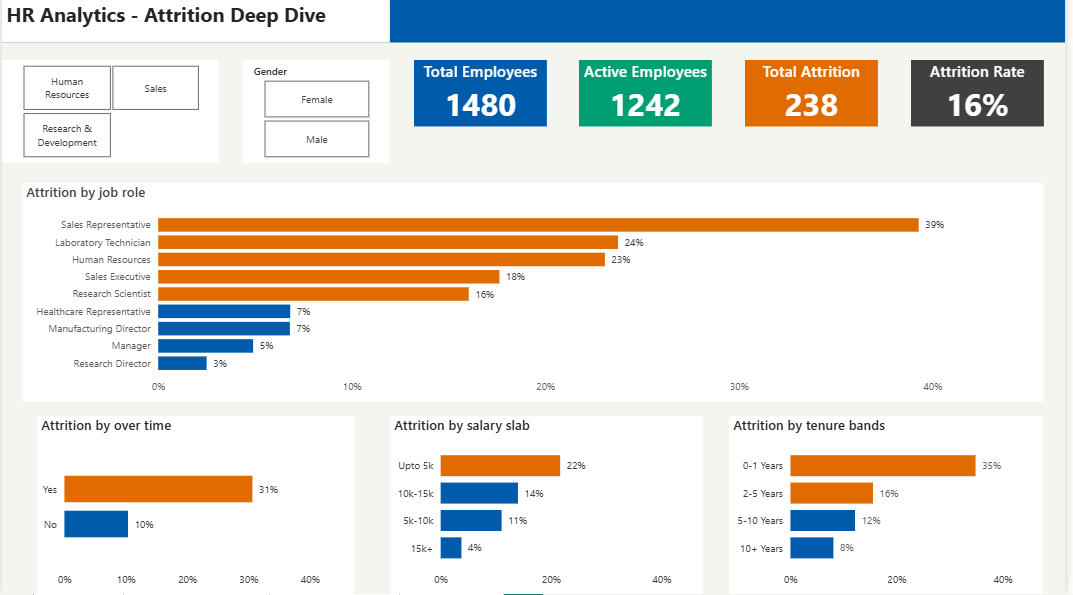

The dashboard page shown, as its layout file describes it:
{"tool":"powerbi","page":{"name":"Attrition Deep Dive","canvas":[1280,720],"ordinal":1},"visuals":[{"type":"shape","box":[1015.6,72.3,243.1,272],"z":0},{"type":"shape","box":[0,0,1280,56],"z":1000},{"type":"textbox","box":[0,0,466.7,56],"z":2000},{"type":"clusteredBarChart","title":"Attrition by job role","fields":{"Category":["HR_Analytics.Job Role"],"Y":["_Measures.Attrition Rate"]},"box":[42,195.8,946,274.6],"z":3000},{"type":"clusteredBarChart","title":"Attrition by over time","fields":{"Y":["_Measures.Attrition Rate"],"Category":["HR_Analytics.Over Time"]},"box":[42,490.1,383.6,215.5],"z":4000},{"type":"barChart","title":"Attrition by salary slab","fields":{"Y":["_Measures.Attrition Rate"],"Category":["HR_Analytics.Salary Slab"]},"box":[465.1,490.1,377.1,215.5],"z":5000},{"type":"clusteredBarChart","title":"Attrition by tenure bands","fields":{"Category":["HR_Analytics.Tenure Bands"],"Y":["_Measures.Attrition Rate"]},"box":[880.3,490.1,378.4,215.5],"z":6000},{"type":"slicer","fields":{"Values":["HR_Analytics.Department"]},"box":[1015.5,203.4,243.2,140.9],"z":7000},{"type":"card","title":"Total Employees","fields":{"Values":["_Measures.Total Employees"]},"box":[185.8,83.7,160,80],"z":8000},{"type":"card","title":"Active Employees","fields":{"Values":["_Measures.Active Employees"]},"box":[385.4,83.7,160,80],"z":9000},{"type":"card","title":"Total Attrition","fields":{"Values":["_Measures.Total Attrition"]},"box":[584.9,83.7,160,80],"z":10000},{"type":"card","title":"Attrition Rate","fields":{"Values":["_Measures.Attrition Rate"]},"box":[784.5,83.7,160,80],"z":11000},{"type":"slicer","fields":{"Values":["HR_Analytics.Gender"]},"box":[1015.5,71.8,243.2,123.6],"z":12000}]}

Visuals, with their boxes in screenshot pixels (x1, y1, x2, y2), scaled from the page's 1280x720 canvas onto the 1073x595 screenshot:
shape: (x1=851, y1=60, x2=1055, y2=285)
shape: (x1=0, y1=0, x2=1072, y2=46)
textbox: (x1=0, y1=0, x2=391, y2=46)
"Attrition by job role" clusteredBarChart: (x1=35, y1=162, x2=828, y2=389)
"Attrition by over time" clusteredBarChart: (x1=35, y1=405, x2=357, y2=583)
"Attrition by salary slab" barChart: (x1=390, y1=405, x2=706, y2=583)
"Attrition by tenure bands" clusteredBarChart: (x1=738, y1=405, x2=1055, y2=583)
slicer - HR_Analytics.Department: (x1=851, y1=168, x2=1055, y2=285)
"Total Employees" card: (x1=156, y1=69, x2=290, y2=135)
"Active Employees" card: (x1=323, y1=69, x2=457, y2=135)
"Total Attrition" card: (x1=490, y1=69, x2=624, y2=135)
"Attrition Rate" card: (x1=658, y1=69, x2=792, y2=135)
slicer - HR_Analytics.Gender: (x1=851, y1=59, x2=1055, y2=161)
